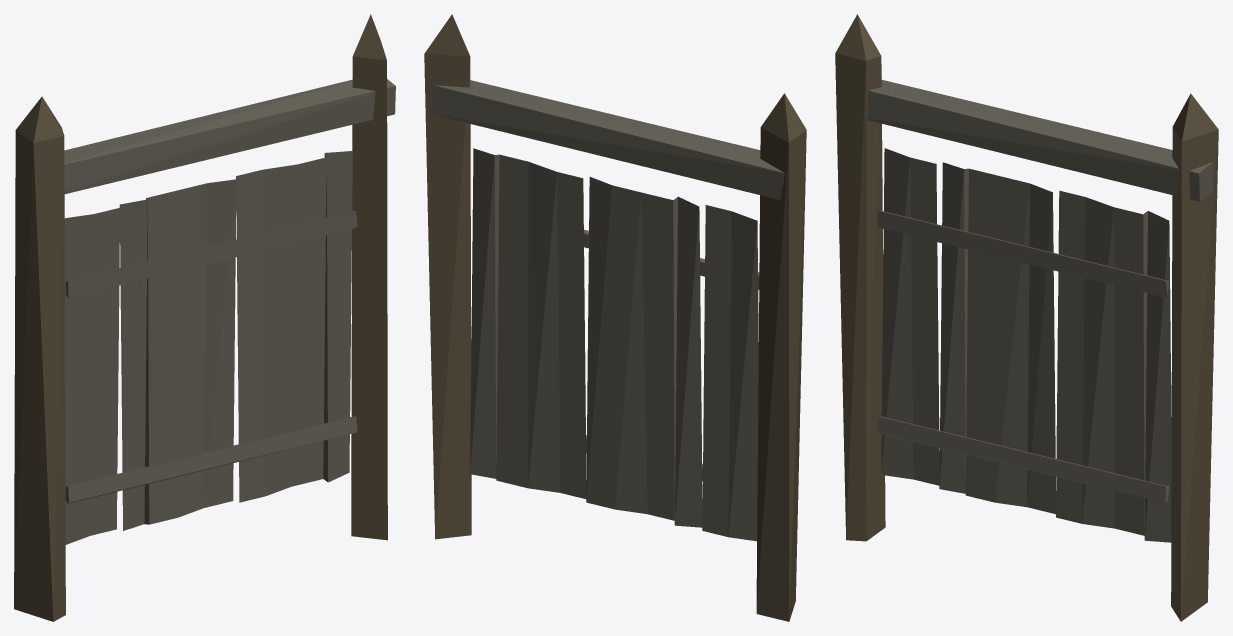
The model's file is palisade-gate-lod1.glb.
The picture shows the model from 3 angles, left to right: view 1: azimuth 30°, elevation 25°; view 2: azimuth 150°, elevation 25°; view 3: azimuth 330°, elevation 25°; orthographic projection.
Size of the model in its own units: 5.04 by 6.8 by 0.64.
